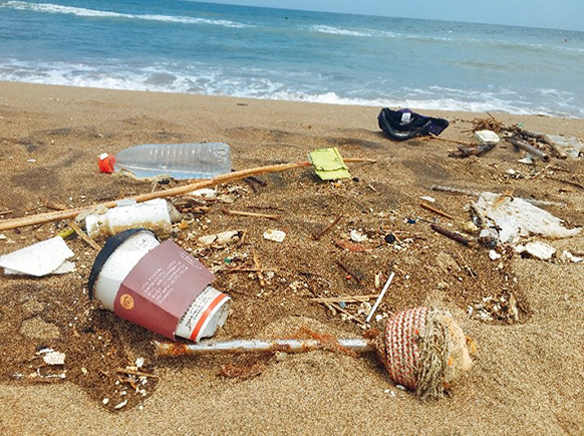General waste: (380, 311, 466, 385), (481, 188, 554, 256), (378, 106, 447, 140), (363, 269, 400, 322), (308, 148, 349, 178)
paper: (92, 230, 224, 338), (11, 236, 74, 275)
plastic: (106, 146, 229, 179)
